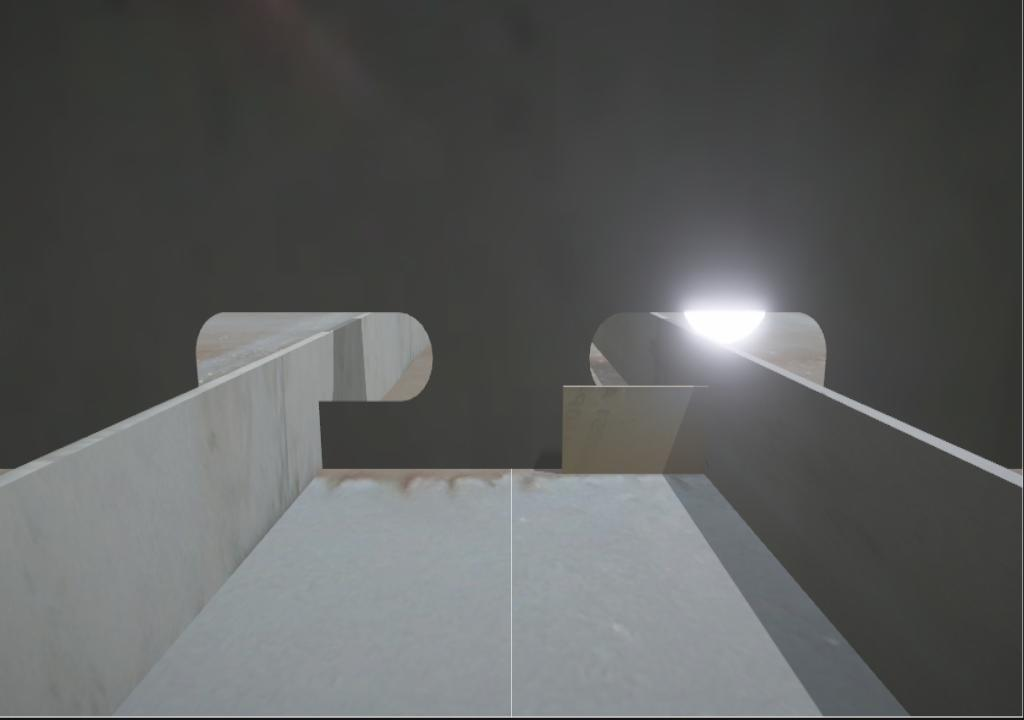fillet_yong_jeop_jang: (317, 461, 561, 477)
longi_yong_jeop_jang: (315, 395, 328, 472)
plate_CP01: (560, 386, 707, 476)
